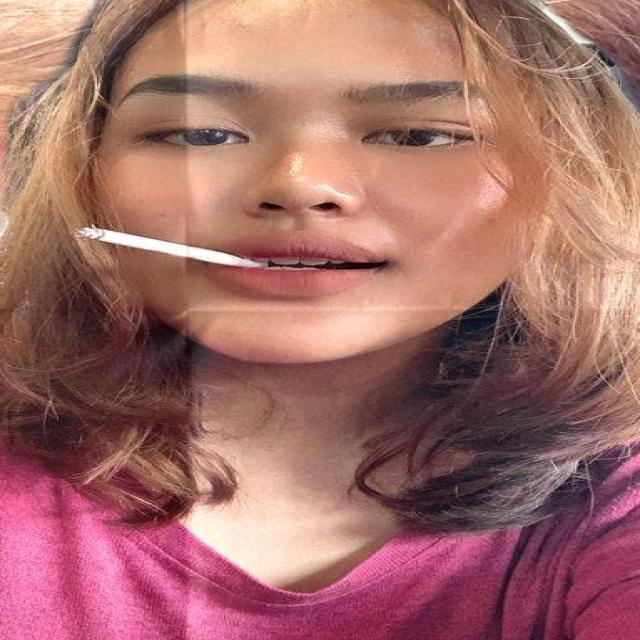rokok: (77, 224, 265, 268)
